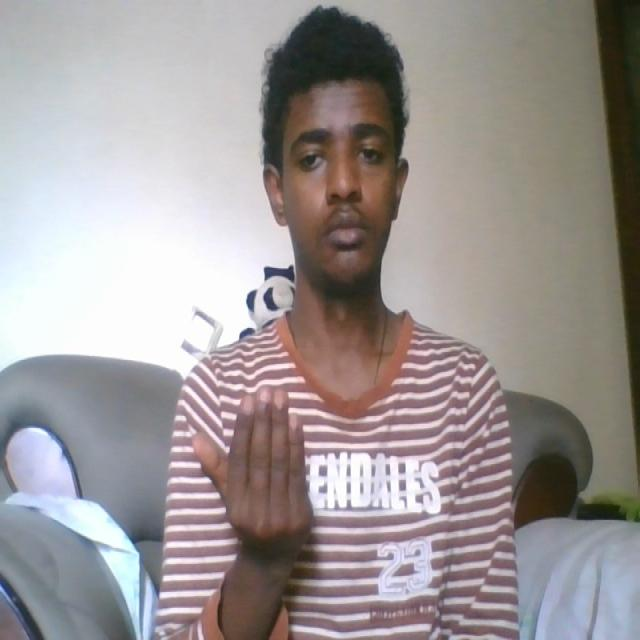na: (191, 392, 310, 572)
